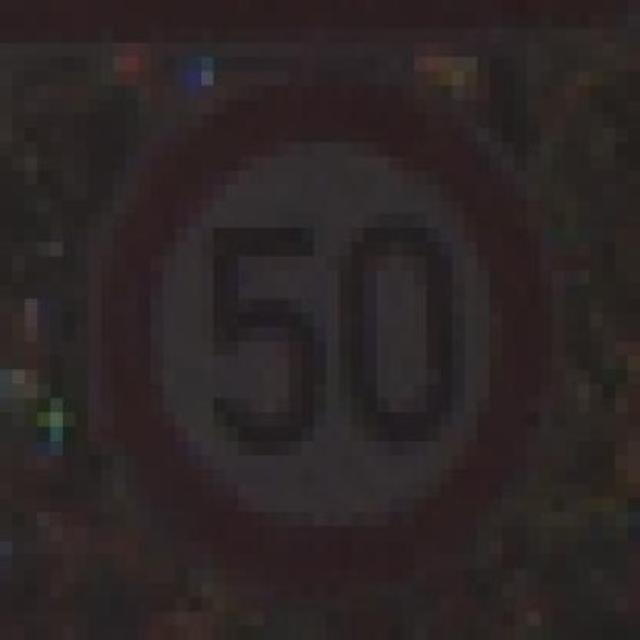50 mph speed limit: (88, 56, 577, 598)
